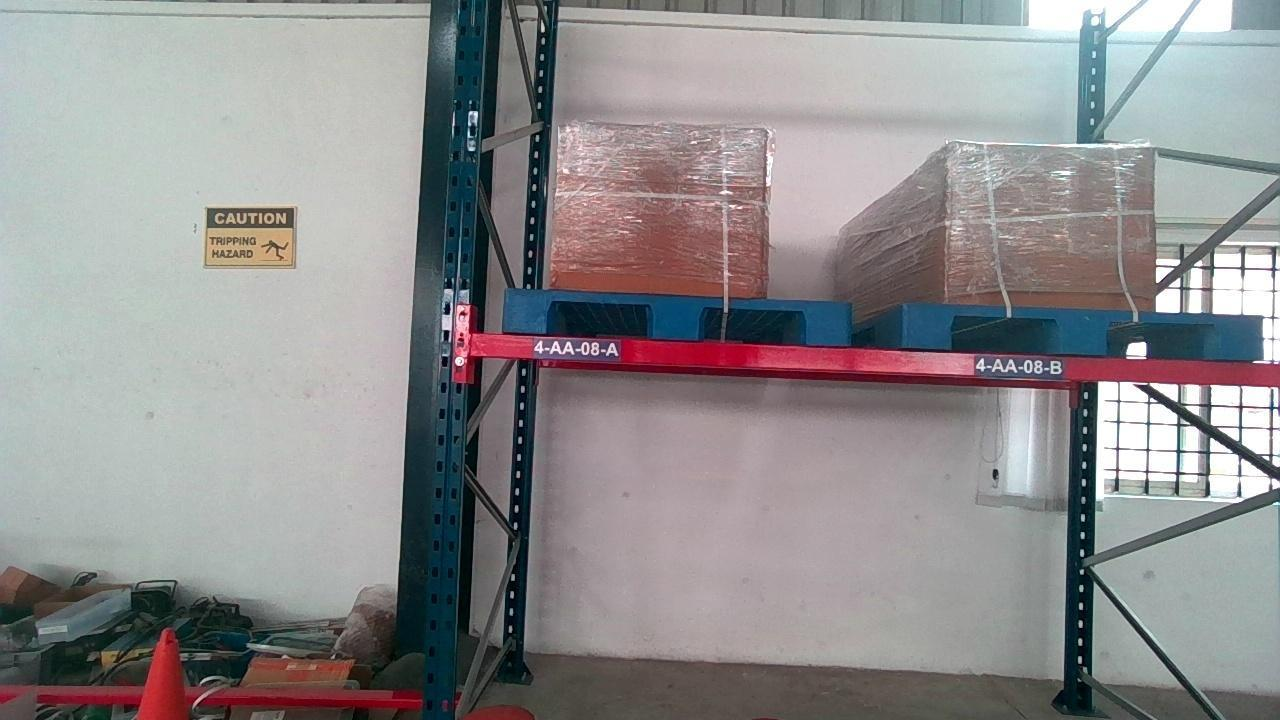h_rack: (455, 332, 1280, 385)
small_pallet: (899, 305, 1265, 355), (504, 293, 849, 339)
